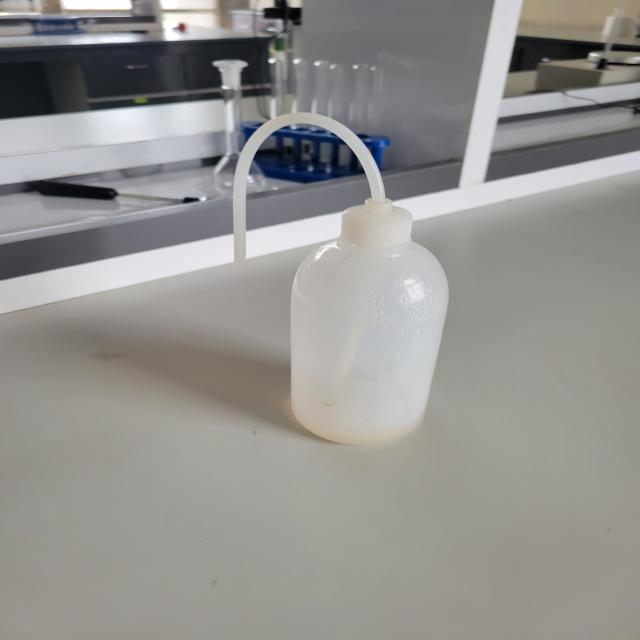Wash_Bottle: (189, 94, 522, 466)
